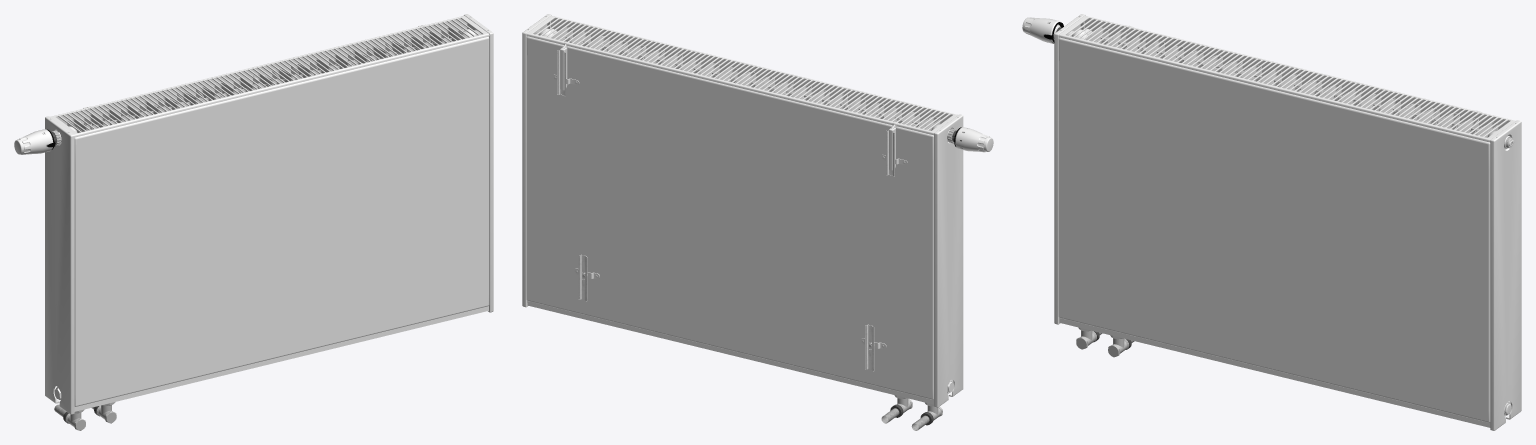
Rendered from Radiator.fbx.
3 views of the same model, side by side, from view 1: azimuth 30°, elevation 25°; view 2: azimuth 150°, elevation 25°; view 3: azimuth 330°, elevation 25° (orthographic). The views are drawn at different scales.
Visible parts, largest first — view 1: Radiator; view 2: Radiator; view 3: Radiator.
Boxes of the visible parts, box(x1,y1,x2,y2) form: Radiator: box(14, 14, 493, 430); Radiator: box(522, 14, 993, 430); Radiator: box(1022, 14, 1521, 430).
Size of the model in its own units: 2.05 by 0.2375 by 1.28.
